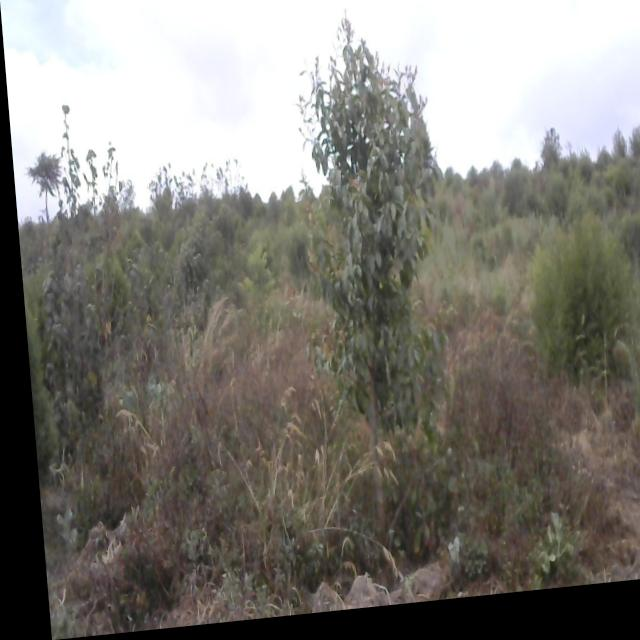Lemon Myrtle: (290, 28, 465, 550)
cedrus: (505, 219, 640, 404), (17, 139, 59, 230)
